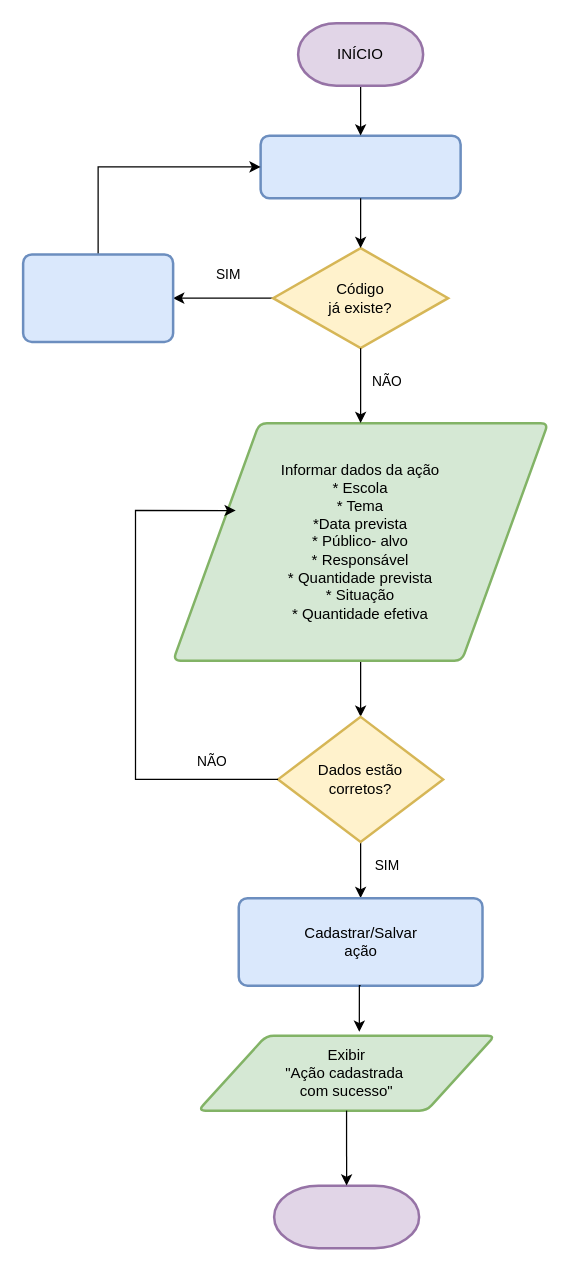
Some shapes in this 570 by 1270 pixel diagram are drawn without their labels. The shapes that lost their labels are listed below. From the top down, each one's box as (x1, y1, x2, y2) in pixels, then its label:
(259, 134, 461, 199): Gerar/selecionar código pré-definido
(21, 252, 174, 342): Gerar outro código
(272, 1184, 420, 1249): FIM
